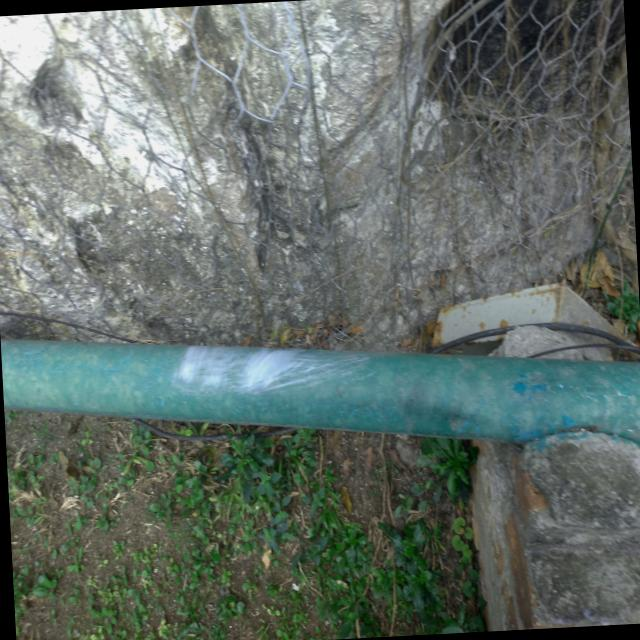gas: (3, 338, 640, 449)
